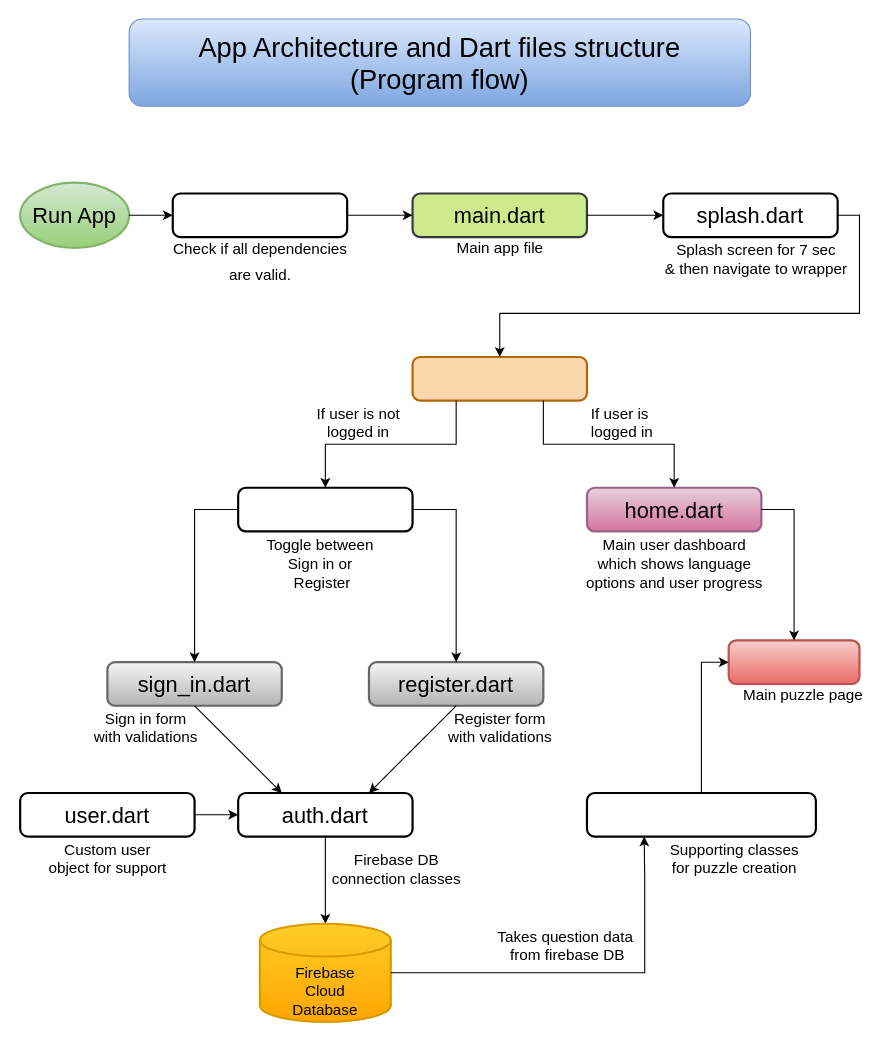
This 894x1042 diagram has some shape labels left out. Each missing label, with the centre of its shape:
"authenticate .dart" goes at pixel 325 509.
"draggable_lines .dart" goes at pixel 700 814.
"pubspec.yaml" goes at pixel 259 215.
"puzzle .dart" goes at pixel 793 662.
"wrapper.dart" goes at pixel 499 378.
